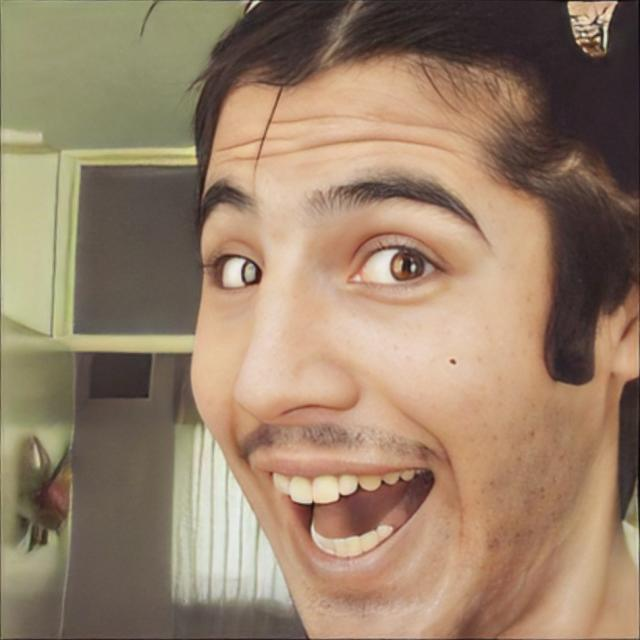surprise: (190, 55, 610, 640)
